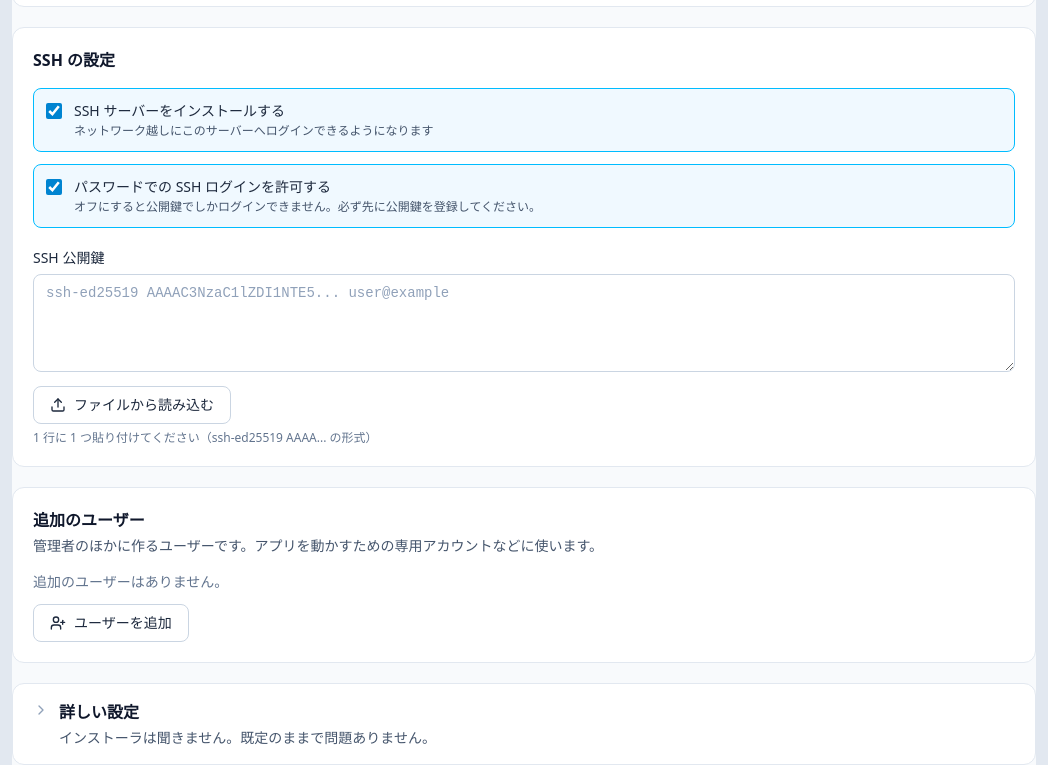
Test: UserStep の「詳しい設定」 › 非対応リリースで既定のままなら、有効にはできない
(page scrolled)
Click the button "詳しい設定 インストーラは聞きません。既定のままで問題ありません。" at point(99, 712), box [13,684,1035,764]
(page scrolled)
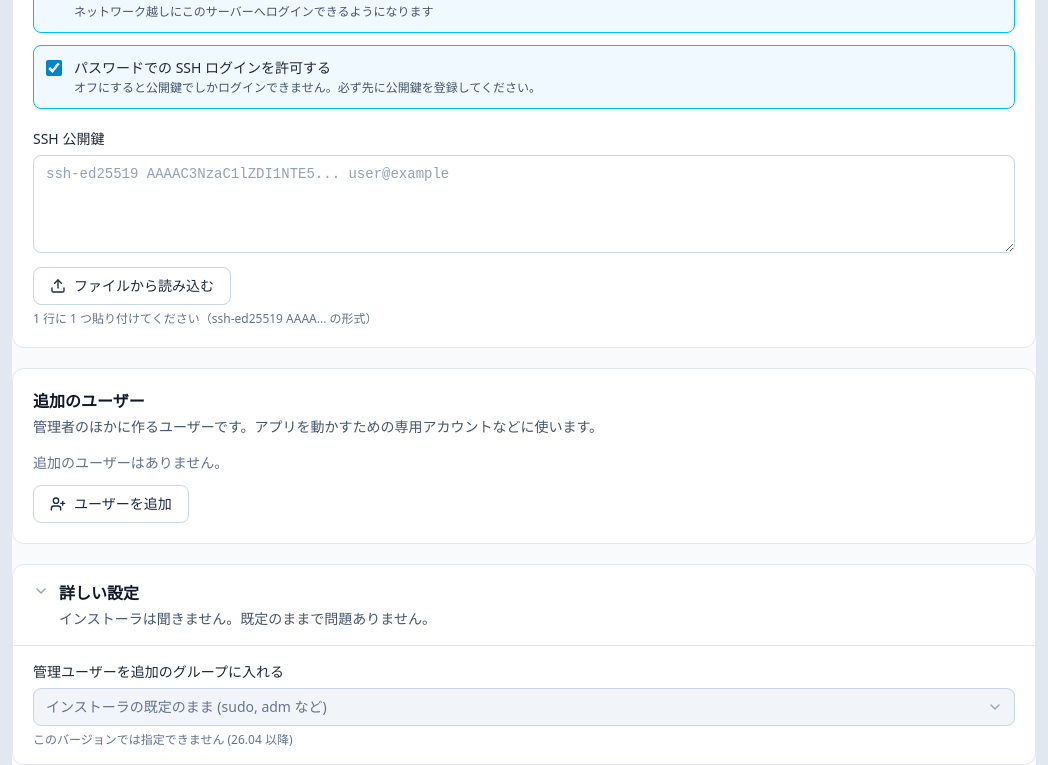
Expected: the dropdown is disabled, [33,688,1015,726]
